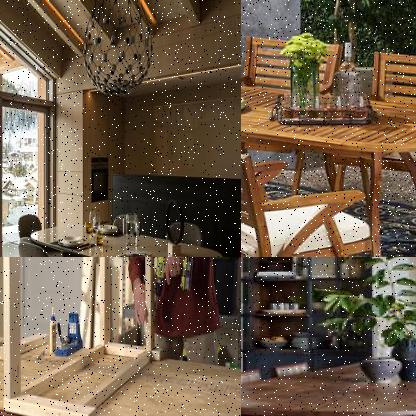table: (241, 81, 415, 256), (0, 327, 240, 415), (241, 347, 415, 415), (25, 207, 226, 256)
